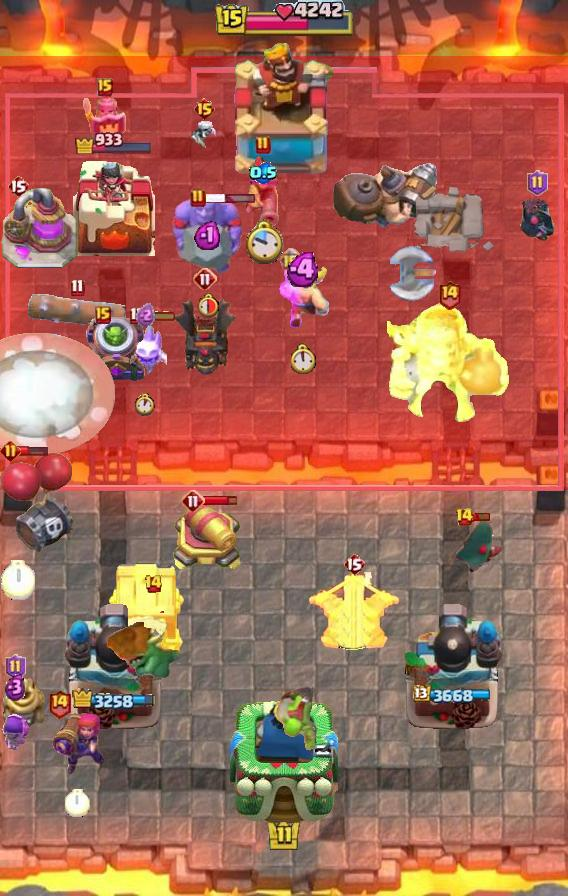archer-evolution: (172, 295, 238, 379)
archer-queen: (168, 194, 246, 276)
bar-level: (275, 687, 325, 753)
battle-ram: (517, 195, 557, 247)
bomb: (106, 560, 186, 654)
bomb-tower: (243, 152, 283, 228)
clock: (213, 0, 355, 40)
electro-giant: (387, 302, 511, 426)
electro-spirit: (285, 252, 322, 287), (194, 219, 220, 250), (250, 162, 279, 184), (5, 673, 27, 701), (136, 303, 155, 327)
electro-wizard: (107, 598, 199, 680)
elixir: (245, 218, 284, 265), (1, 560, 35, 600), (291, 343, 317, 374), (66, 789, 91, 817), (195, 292, 219, 318), (134, 392, 156, 416)
emote: (204, 192, 256, 203), (202, 494, 238, 507), (141, 310, 177, 322), (15, 445, 49, 457), (471, 511, 491, 522)
goblin: (2, 714, 30, 752)
goblin-cage: (83, 314, 147, 384)
goblin-drill: (0, 678, 46, 730)
goblin-giant: (278, 263, 329, 329)
heal-spirit: (191, 120, 217, 149)
king-tower: (228, 41, 340, 181), (230, 698, 338, 826)
lava-pup: (305, 571, 403, 653)
mega-minion: (49, 705, 105, 777)
minion: (28, 294, 126, 330)
mirror: (123, 321, 167, 375)
pekka: (0, 188, 78, 270)
princess: (82, 86, 128, 144)
queen-tower: (73, 156, 155, 256)
royal-giant: (387, 245, 443, 303)
royal-recruit: (170, 500, 242, 574)
royal-recruit-evolution: (0, 451, 78, 557)
selected: (71, 687, 156, 713), (74, 129, 154, 154), (413, 685, 493, 705)
tesla: (454, 519, 506, 575)
text: (48, 688, 73, 719), (437, 279, 462, 309), (193, 267, 217, 291), (181, 489, 205, 513), (5, 654, 27, 680), (193, 97, 216, 121), (527, 170, 548, 196), (278, 249, 301, 272), (7, 174, 29, 198), (343, 552, 365, 576), (0, 439, 20, 461), (454, 507, 473, 527), (145, 574, 164, 594), (255, 135, 271, 155), (190, 188, 206, 208), (97, 78, 113, 96), (95, 306, 111, 324), (129, 307, 144, 326), (71, 279, 85, 298)
tower-bar: (64, 601, 164, 731), (403, 601, 503, 731)
wall-breaker: (1, 333, 116, 455)
wizard: (329, 160, 441, 230)
